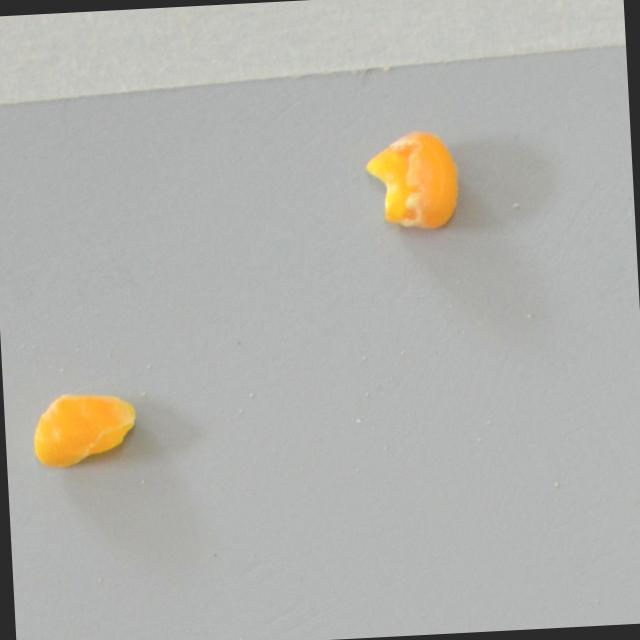pelicula: (363, 127, 467, 232), (33, 389, 139, 470)
